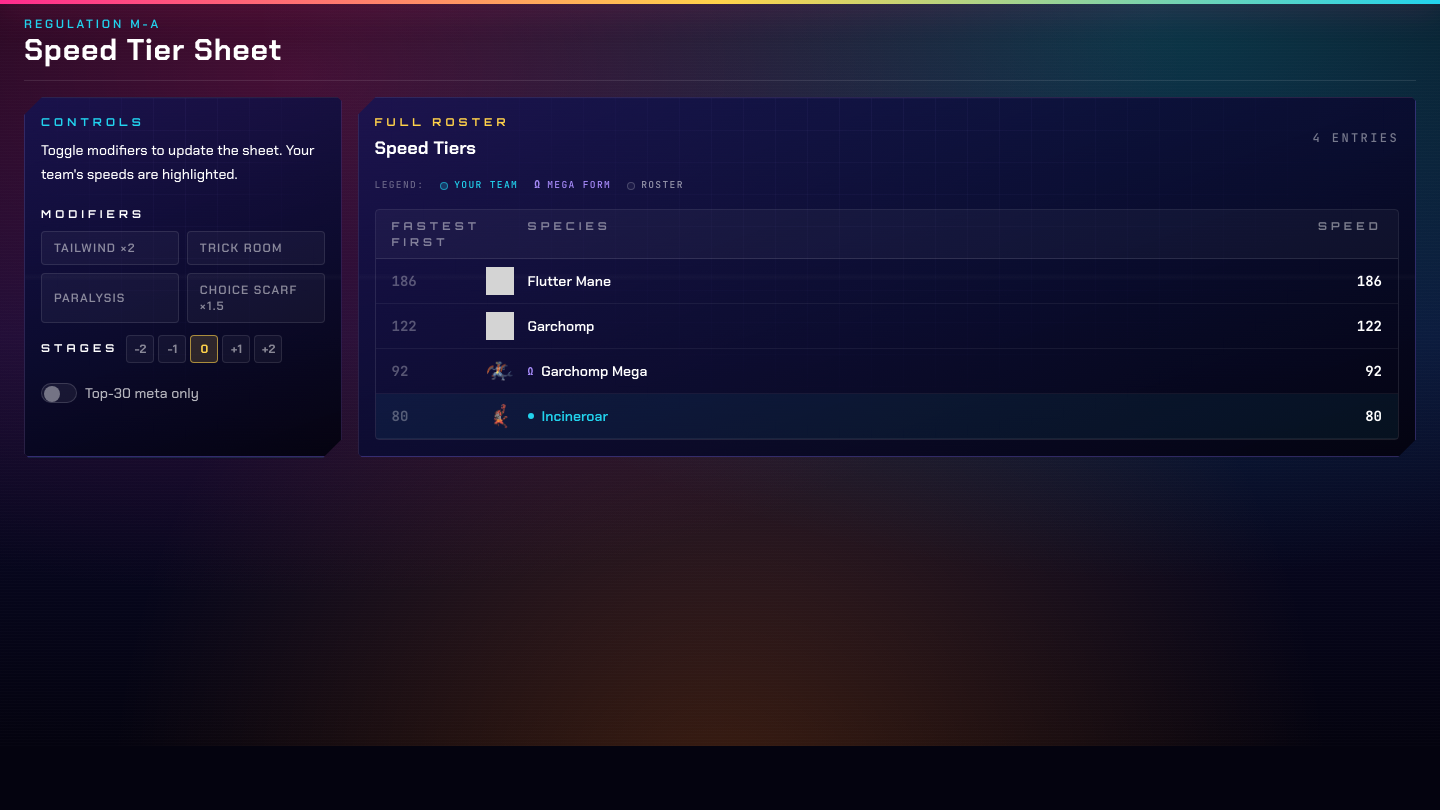
Test: SpeedTierPage › tailwind applies only to userTeam rows, not to non-team rows
Check: the text "Flutter Mane" is shown, box [528,271,611,291]
Check: the 1st text "80" is shown, box [392,407,408,425]
Click the button "Tailwind ×2" at (110, 248), box [41,231,179,265]
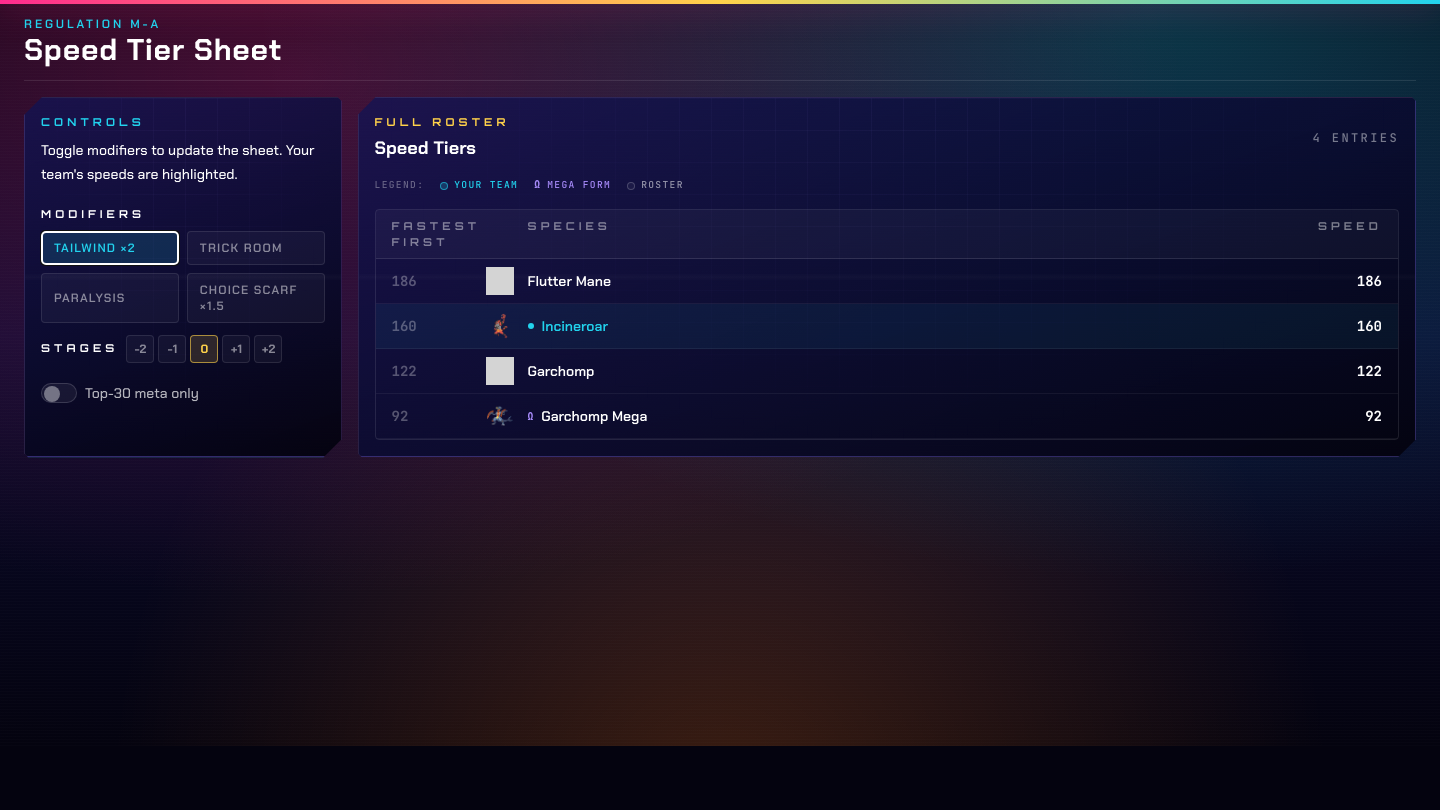
Check: the 1st text "186" is shown, box [392,272,417,290]
Check: the 1st text "160" is shown, box [392,317,417,335]
